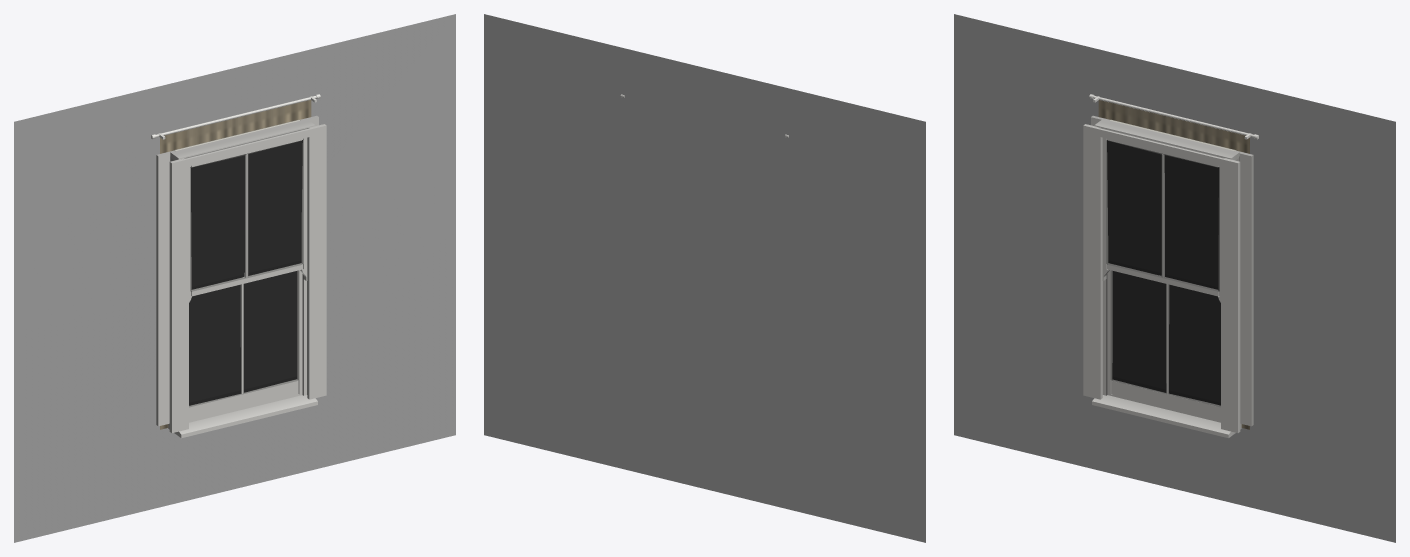
3 renders of one model, left to right at view 1: azimuth 30°, elevation 25°; view 2: azimuth 150°, elevation 25°; view 3: azimuth 330°, elevation 25°, orthographic.
Parts seen in each view (by area): view 1: room__card, glass__upper_R, glass__upper_L, glass__lower_R, glass__lower_L, paint_joinery__outer_lining_L, paint_joinery__outer_lining_R, paint_joinery__inner_lining_L, curtain__C1_drawn, paint_joinery__oak_sill, paint_joinery__lower_bottom_rail, paint_joinery__head_outer_lining (+6 smaller); view 2: room__card; view 3: room__card, glass__upper_L, glass__upper_R, glass__lower_L, glass__lower_R, paint_joinery__outer_lining_R, paint_joinery__outer_lining_L, paint_joinery__inner_lining_R, curtain__C1_drawn, paint_joinery__oak_sill, paint_joinery__lower_bottom_rail, paint_joinery__head_outer_lining (+6 smaller).
Part boxes in pixels (x1=…): room__card: x1=14, y1=14, x2=455, y2=542; glass__upper_R: x1=248, y1=140, x2=302, y2=275; glass__upper_L: x1=190, y1=155, x2=244, y2=289; glass__lower_R: x1=244, y1=271, x2=297, y2=392; glass__lower_L: x1=189, y1=284, x2=240, y2=405; paint_joinery__outer_lining_L: x1=169, y1=158, x2=188, y2=432; paint_joinery__outer_lining_R: x1=307, y1=124, x2=326, y2=399; paint_joinery__inner_lining_L: x1=156, y1=150, x2=173, y2=426; curtain__C1_drawn: x1=160, y1=100, x2=311, y2=429; paint_joinery__oak_sill: x1=168, y1=394, x2=317, y2=438; paint_joinery__lower_bottom_rail: x1=189, y1=381, x2=297, y2=422; paint_joinery__head_outer_lining: x1=170, y1=124, x2=326, y2=170; room__card: x1=484, y1=14, x2=925, y2=542; room__card: x1=954, y1=14, x2=1395, y2=542; glass__upper_L: x1=1107, y1=140, x2=1161, y2=275; glass__upper_R: x1=1164, y1=155, x2=1219, y2=289; glass__lower_L: x1=1112, y1=271, x2=1166, y2=392; glass__lower_R: x1=1169, y1=284, x2=1220, y2=405; paint_joinery__outer_lining_R: x1=1221, y1=158, x2=1240, y2=432; paint_joinery__outer_lining_L: x1=1083, y1=124, x2=1102, y2=399; paint_joinery__inner_lining_R: x1=1236, y1=150, x2=1253, y2=426; curtain__C1_drawn: x1=1098, y1=100, x2=1249, y2=429; paint_joinery__oak_sill: x1=1092, y1=394, x2=1241, y2=438; paint_joinery__lower_bottom_rail: x1=1112, y1=381, x2=1220, y2=422; paint_joinery__head_outer_lining: x1=1083, y1=124, x2=1239, y2=170.
Size of the model in its own units: 2.8 by 2.55 by 0.1657.
6 materials, 3 textured.
